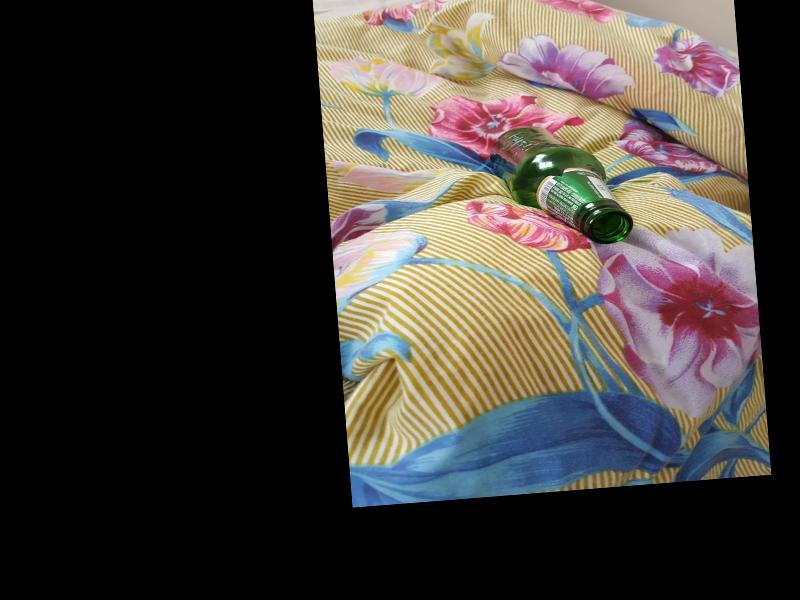Beer: (488, 118, 636, 254)
